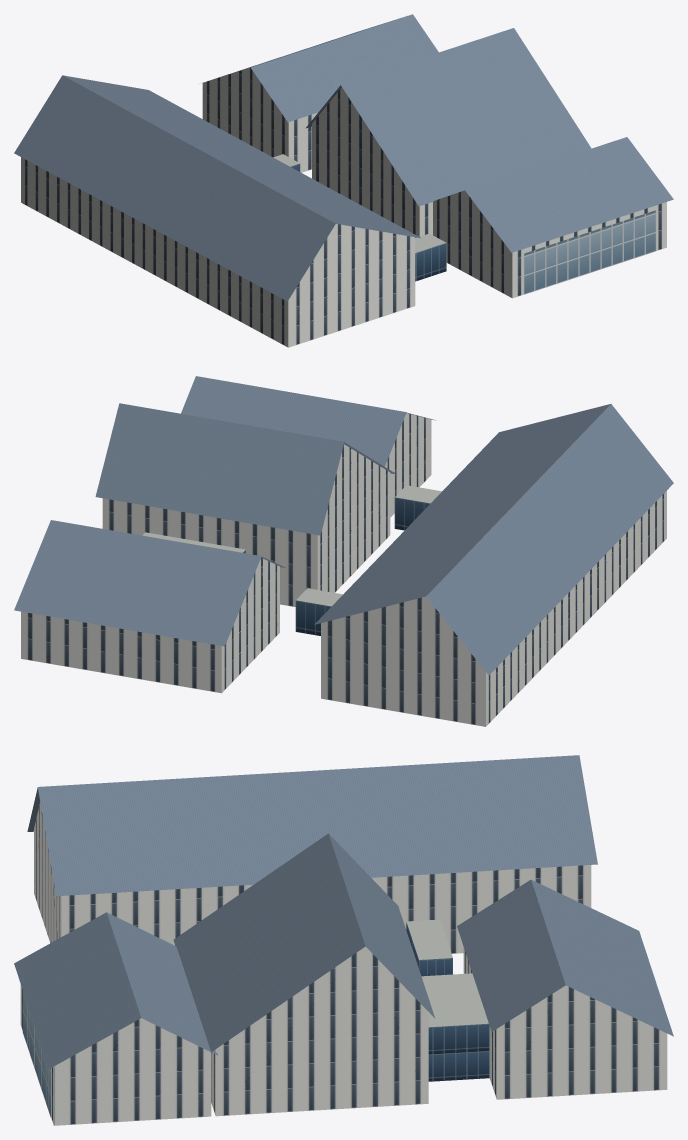
Rendered from jianshanyuan.glb.
The picture shows the model from 3 angles, top to bottom: view 1: azimuth 30°, elevation 25°; view 2: azimuth 150°, elevation 25°; view 3: azimuth 270°, elevation 25°; orthographic projection. The views are drawn at different scales.
Visible parts, largest first — view 1: 见山园; view 2: 见山园; view 3: 见山园.
Part boxes in pixels (x1,y1,x2,y2): 见山园: (14, 14, 673, 347); 见山园: (14, 376, 673, 726); 见山园: (14, 755, 673, 1125).
Size of the model in its own units: 73.93 by 21 by 76.75.
5 materials, 4 textured.
